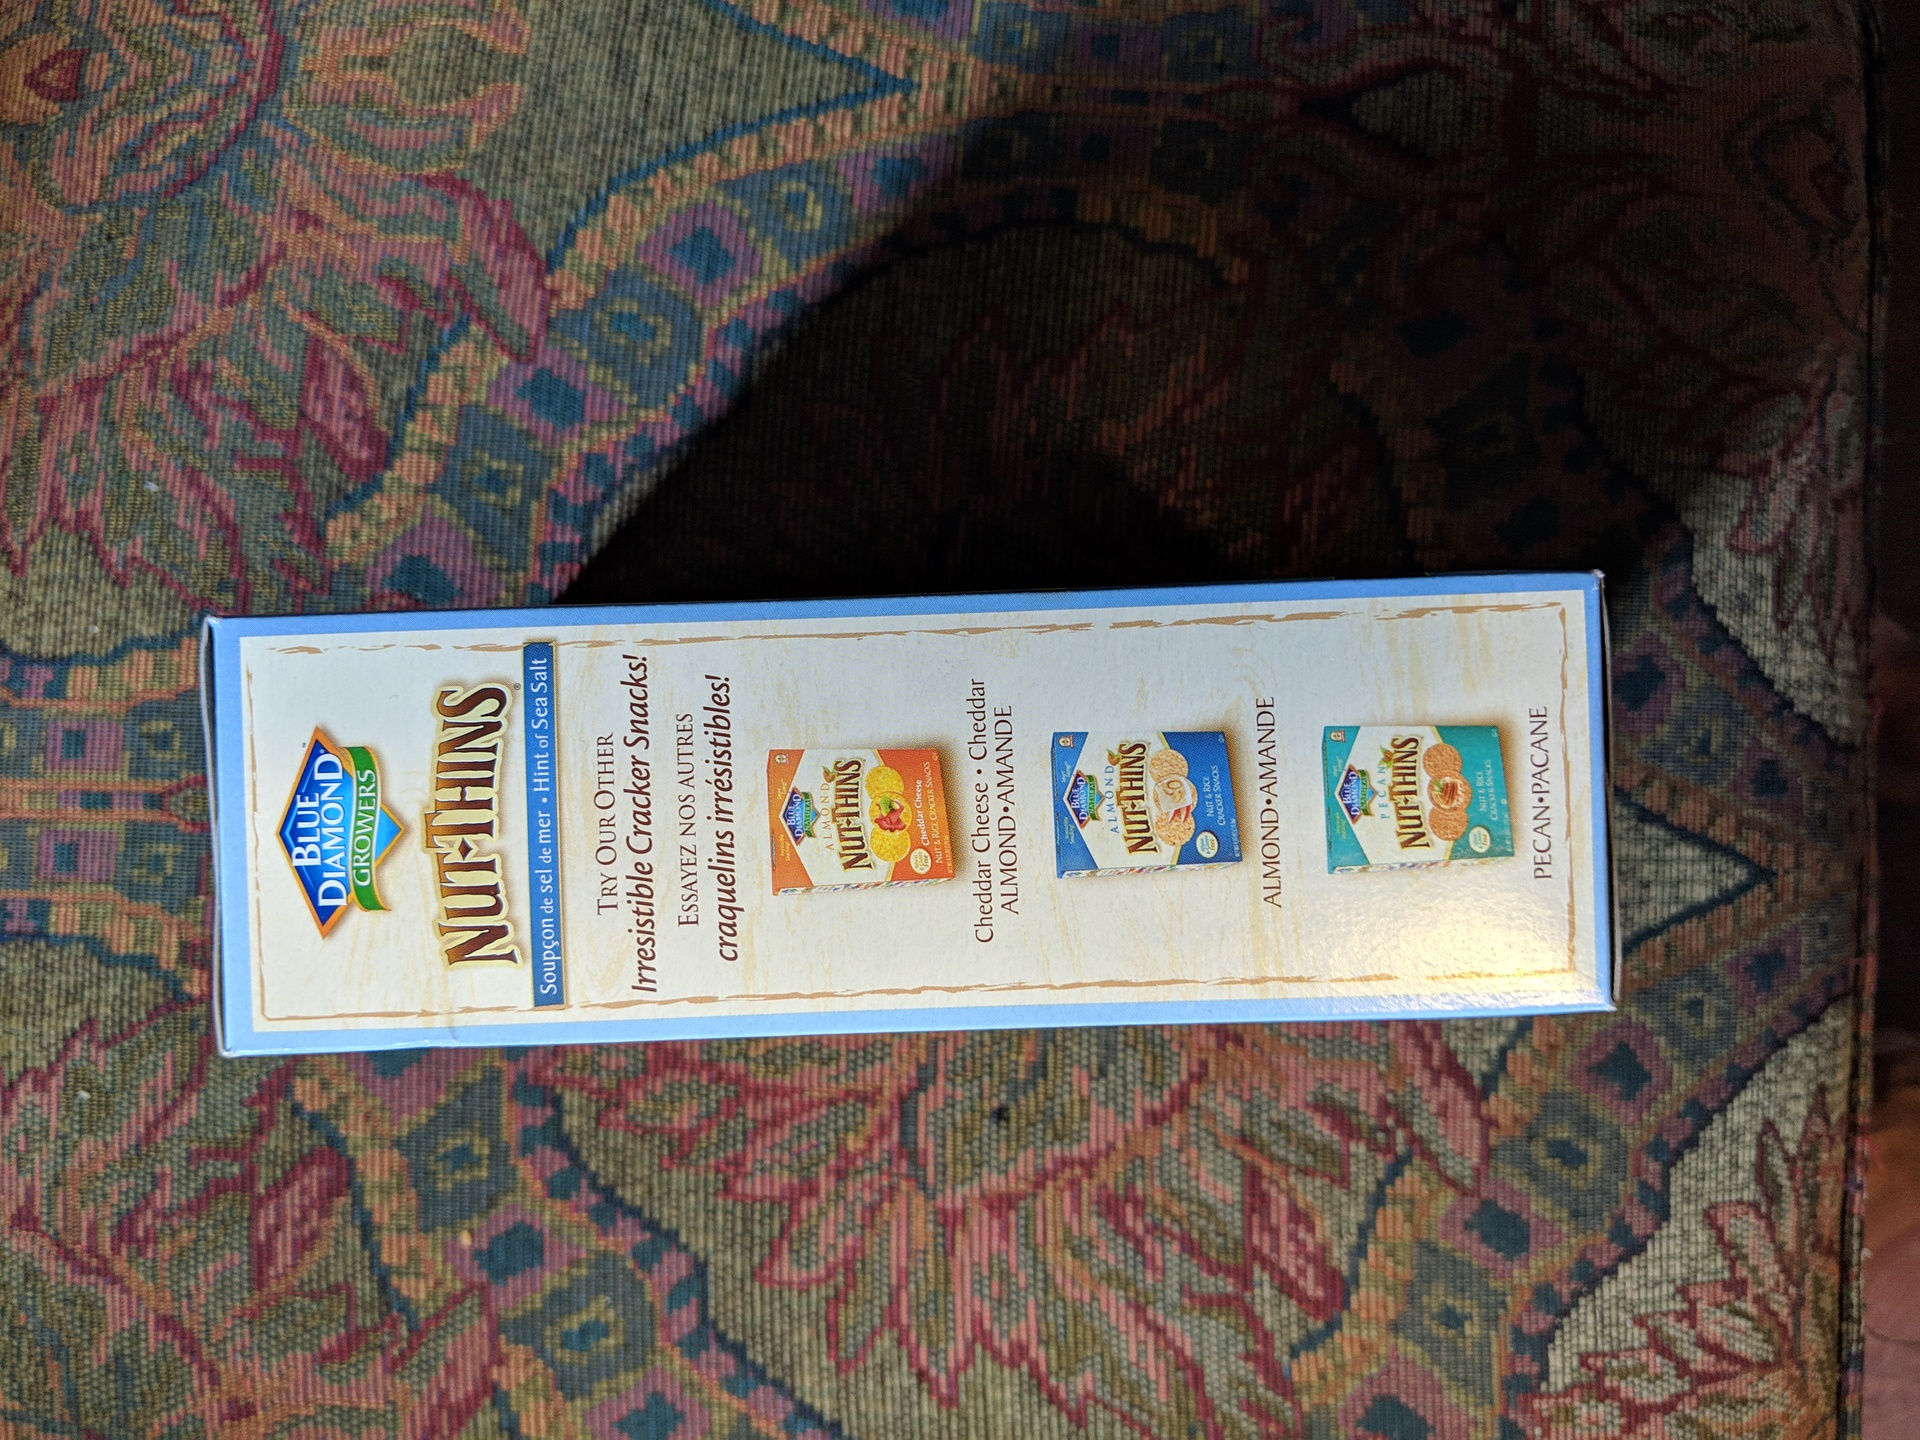blue_diamond_nut_thins_almond_seasalt: (206, 576, 1619, 1059)
